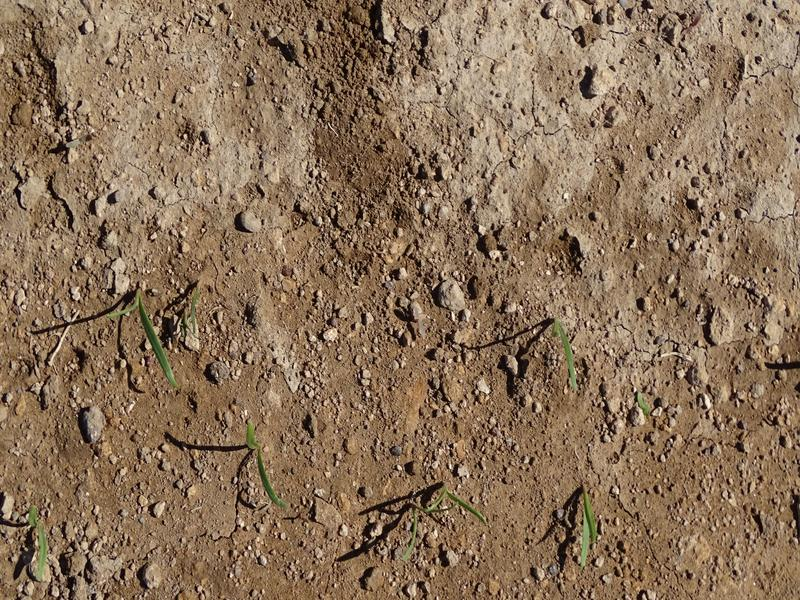Espinaca: (98, 284, 180, 387), (393, 483, 488, 562), (243, 417, 290, 513), (569, 483, 609, 568), (23, 501, 56, 582), (552, 319, 583, 392)
